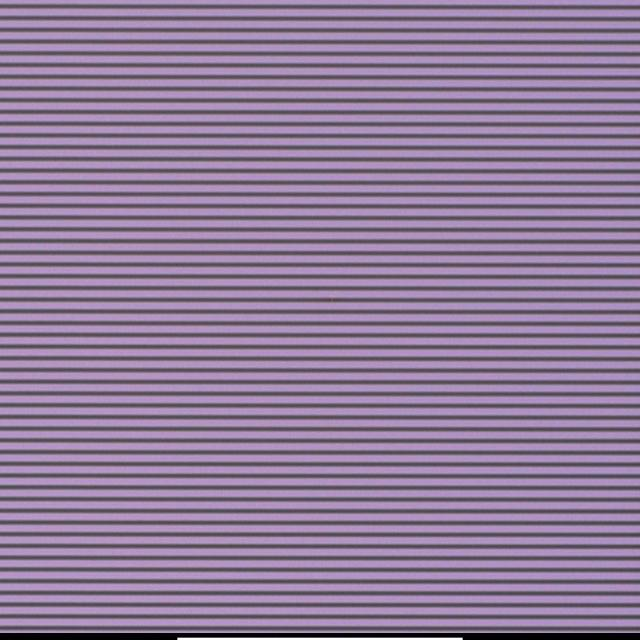03_intrusion: (328, 296, 338, 306)
